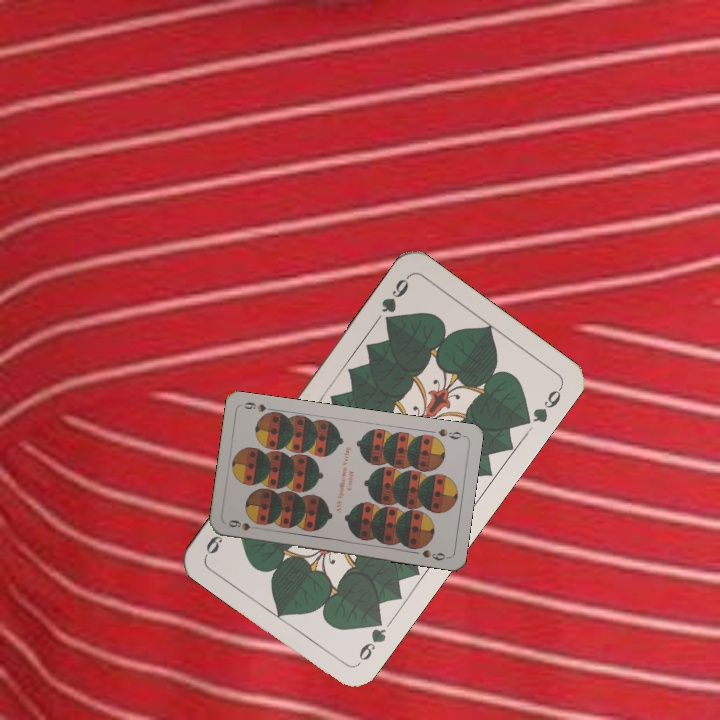G9: (353, 611, 389, 668), (377, 272, 412, 329)
S9: (434, 424, 467, 442), (224, 516, 253, 533)
